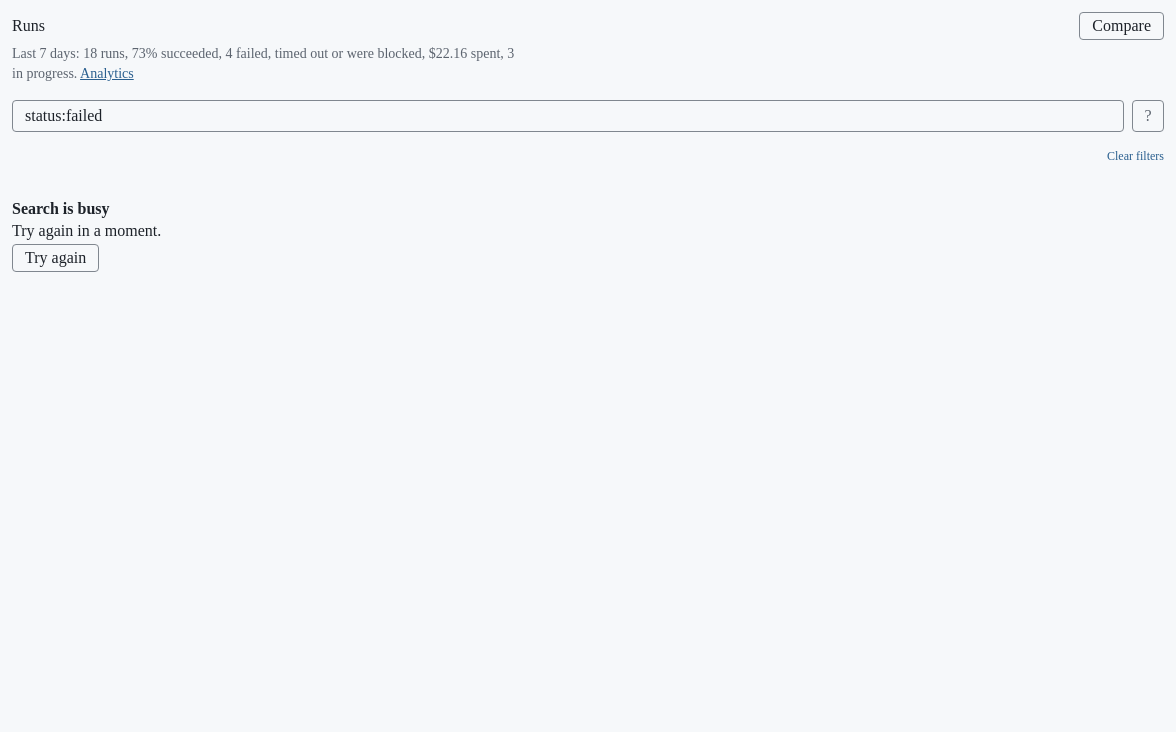
Test case: search page › SEARCH_BUSY shows a retry that runs the search again
Expected: the message shows "Search is busy", [12,200,110,217]
Click the button "Try again".
click(56, 258)  # box [12,244,99,272]
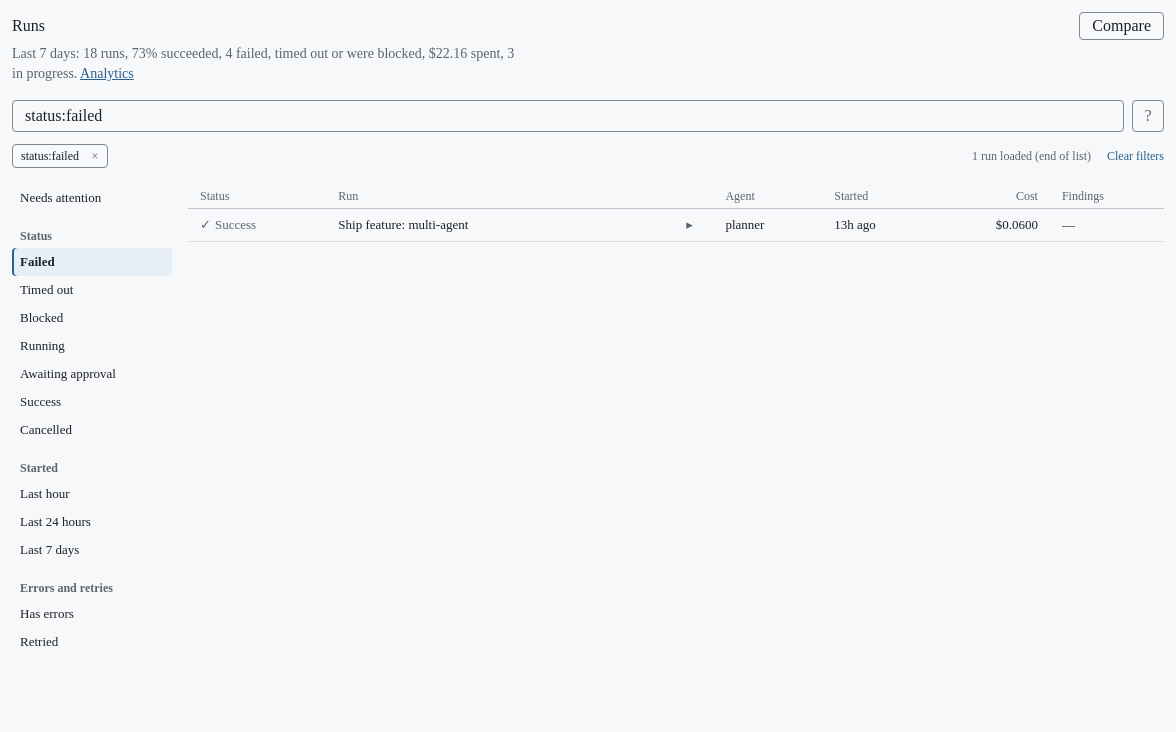
Expected: the message "Search is busy Try again in a moment. Try again" is gone
